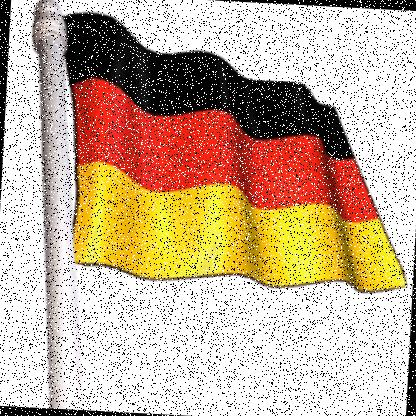de: (48, 4, 416, 303)
